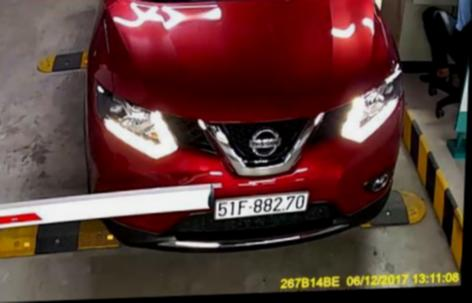License_Plate: (211, 189, 311, 221)
